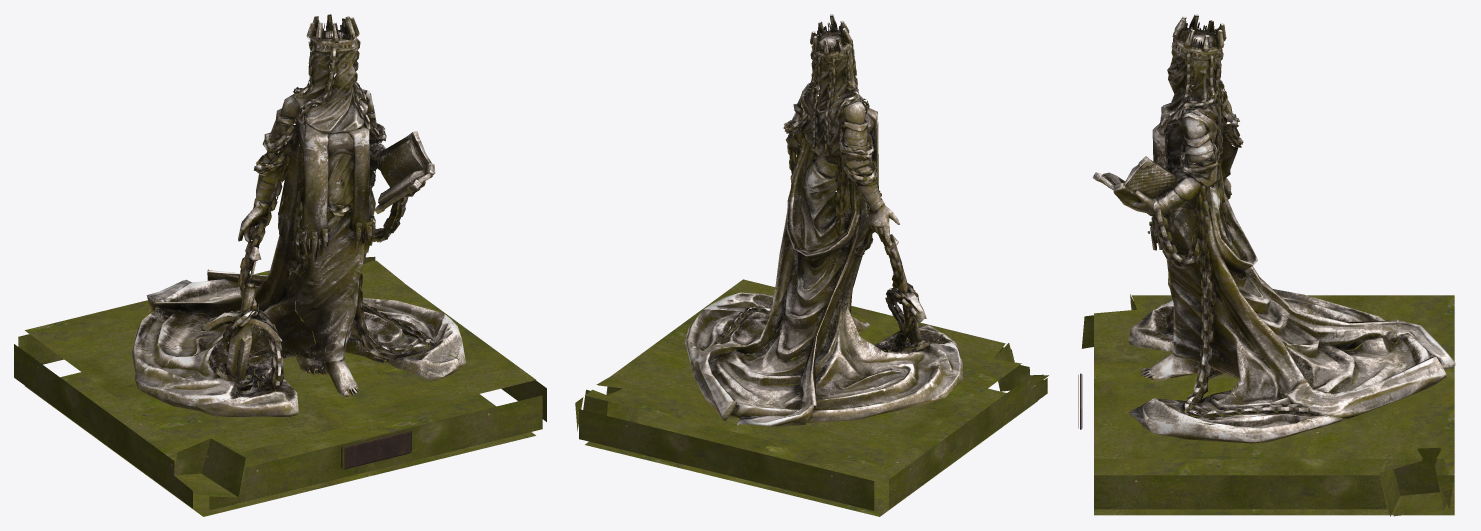
The model's file is lod2_NOT_APPROVED.glb.
3 views of the same model, side by side, from view 1: azimuth 30°, elevation 25°; view 2: azimuth 150°, elevation 25°; view 3: azimuth 270°, elevation 25° (orthographic). The views are drawn at different scales.
Parts seen in each view (by area): view 1: gothic_statue_surface, f3_damp_concrete_surface, f3_oxidized_iron_surface; view 2: gothic_statue_surface, f3_damp_concrete_surface; view 3: gothic_statue_surface, f3_damp_concrete_surface.
Part boxes in pixels (box(x1,y1,x2,y2)): gothic_statue_surface: box(131, 14, 465, 416); f3_damp_concrete_surface: box(14, 256, 546, 516); f3_oxidized_iron_surface: box(341, 429, 411, 469); gothic_statue_surface: box(685, 14, 963, 426); f3_damp_concrete_surface: box(575, 279, 1048, 516); gothic_statue_surface: box(1092, 14, 1455, 443); f3_damp_concrete_surface: box(1081, 294, 1454, 516).
Size of the model in its own units: 1.53 by 1.74 by 1.44.
Materials: 3 (3 with a texture image).
